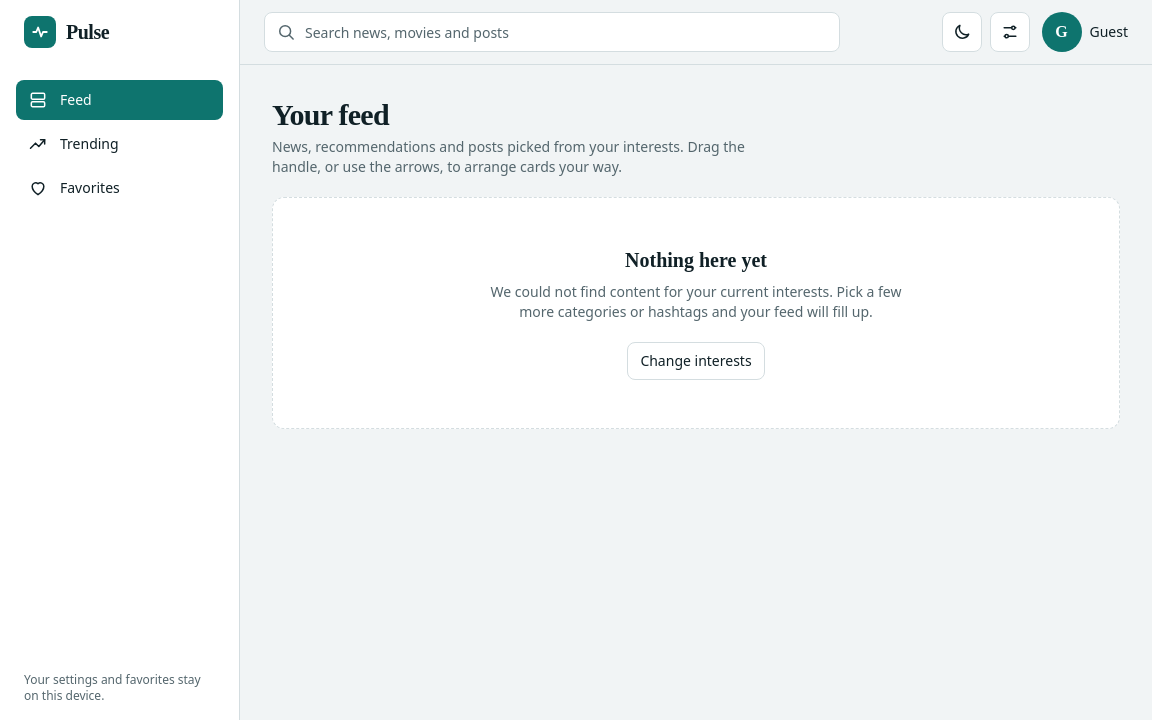
Feed › shows an empty state when nothing matches, with a way to change interests
This screenshot has width=1152, height=720.
Expected: the heading "Nothing here yet" is shown, [625,249,767,271]
Step 1. Click the button "Change interests" → (696, 361), box [627,342,765,380]
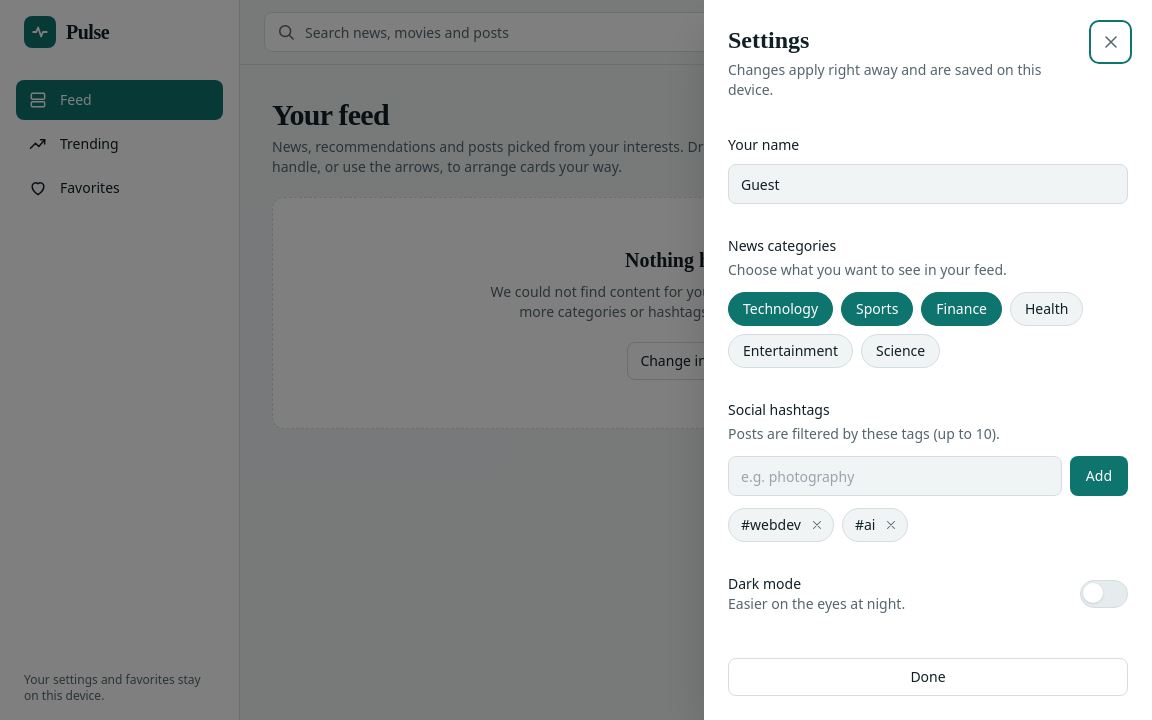
Expected: the dialog "Settings" is shown, [704,0,1151,719]
